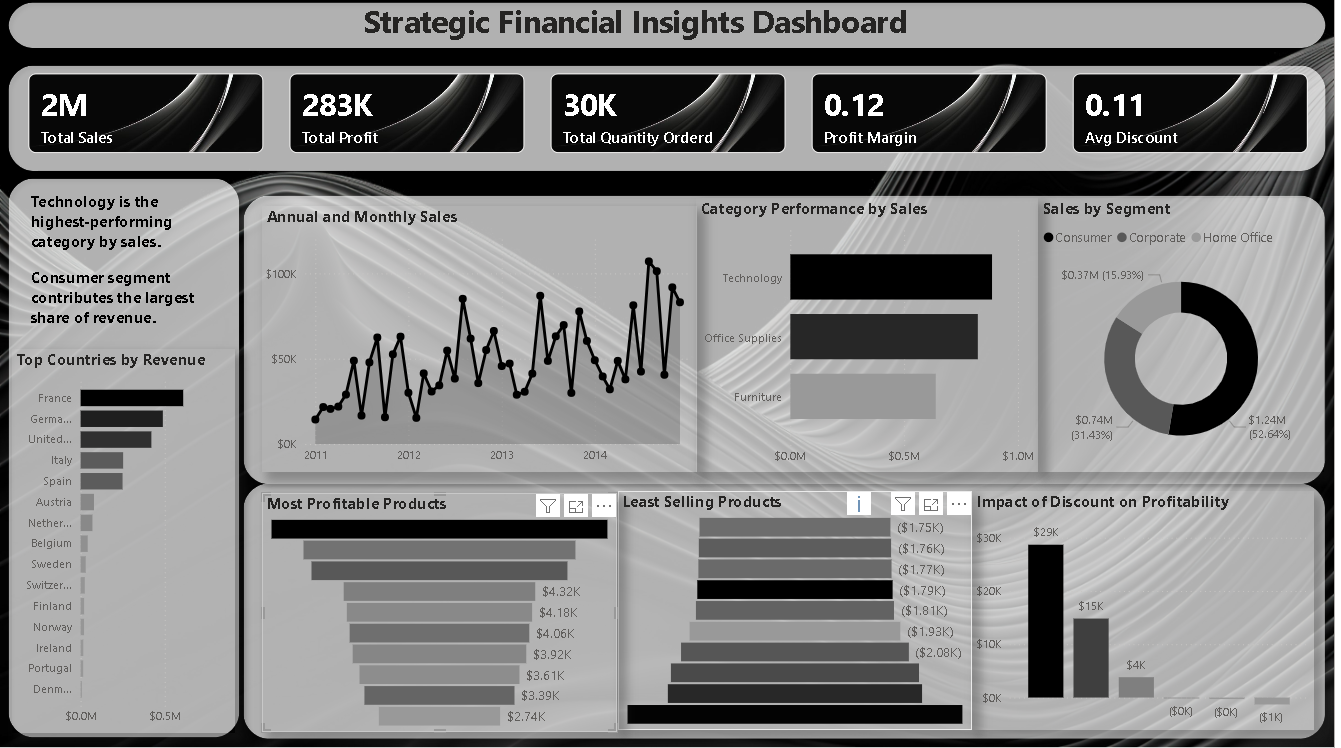

What the dashboard file says about the page in this screenshot:
{"tool":"powerbi","page":{"name":"Page 1","canvas":[1400,800],"ordinal":0},"visuals":[{"type":"shape","box":[0,65.7,1400,128.6],"z":0},{"type":"shape","box":[0,0,1400,65.7],"z":1000},{"type":"shape","box":[247.1,504.3,1152.9,285.7],"z":2000},{"type":"shape","box":[246.9,202.4,1153.1,320.7],"z":3000},{"type":"shape","box":[0,184.3,260,604.3],"z":4000},{"type":"lineChart","title":"Annual and Monthly Sales","fields":{"Y":["Sum(OrderBreakdown.Sales)"],"Category":["ListOfOrders.Order Date.Variation.Date Hierarchy.Year","ListOfOrders.Order Date.Variation.Date Hierarchy.Month"]},"box":[274.9,222.7,455.6,278.7],"z":5000},{"type":"clusteredBarChart","title":"Category Performance by Sales","fields":{"Category":["OrderBreakdown.Category"],"Y":["Sum(OrderBreakdown.Sales)"]},"box":[730.5,213.8,358.9,287.6],"z":6000},{"type":"donutChart","title":"Sales by Segment","fields":{"Category":["ListOfOrders.Segment"],"Y":["Sum(OrderBreakdown.Sales)"]},"box":[1089.5,213.8,300.4,287.6],"z":7000},{"type":"clusteredBarChart","title":"Top Countries by Revenue","fields":{"Category":["ListOfOrders.Country"],"Y":["Sum(OrderBreakdown.Sales)"]},"box":[12.9,372.9,234.3,402.9],"z":8000},{"type":"funnel","title":"Most Profitable Products","fields":{"Y":["Sum(OrderBreakdown.Profit)"],"Category":["OrderBreakdown.Product Name"]},"box":[275,523.8,372.5,251.2],"z":9000},{"type":"columnChart","title":"Impact of Discount on Profitability","fields":{"Category":["OrderBreakdown.Discount Group"],"Y":["Sum(OrderBreakdown.Profit)"]},"box":[1020,521.4,358.6,251.4],"z":10000},{"type":"textbox","box":[27.1,184.3,205.7,188.6],"z":11000},{"type":"funnel","title":"Least Selling Products","fields":{"Y":["Sum(OrderBreakdown.Profit)"],"Category":["OrderBreakdown.Product Name"]},"box":[648.6,521.4,371.4,251.4],"z":12000},{"type":"cardVisual","fields":{"Data":["ListOfOrders.Total Sales","ListOfOrders.Total Profit","ListOfOrders.Total Quantity Orderd","ListOfOrders.rofit Margin","ListOfOrders.Avg Discount"]},"box":[12.9,65.7,1377.1,118.6],"z":13000},{"type":"textbox","box":[376.8,0,593,66.1],"z":14000}]}

Visuals, with their boxes in screenshot pixels (x1, y1, x2, y2), scaled from the page's 1400x800 canvas onto the 1341x748 screenshot:
shape: select_region(0, 61, 1340, 182)
shape: select_region(0, 0, 1340, 61)
shape: select_region(237, 472, 1340, 739)
shape: select_region(236, 189, 1340, 489)
shape: select_region(0, 172, 249, 737)
"Annual and Monthly Sales" lineChart: select_region(263, 208, 700, 469)
"Category Performance by Sales" clusteredBarChart: select_region(700, 200, 1043, 469)
"Sales by Segment" donutChart: select_region(1044, 200, 1331, 469)
"Top Countries by Revenue" clusteredBarChart: select_region(12, 349, 237, 725)
"Most Profitable Products" funnel: select_region(263, 490, 620, 725)
"Impact of Discount on Profitability" columnChart: select_region(977, 488, 1321, 723)
textbox: select_region(26, 172, 223, 349)
"Least Selling Products" funnel: select_region(621, 488, 977, 723)
cardVisual - ListOfOrders.Total Sales x ListOfOrders.Total Profit: select_region(12, 61, 1331, 172)
textbox: select_region(361, 0, 929, 62)
